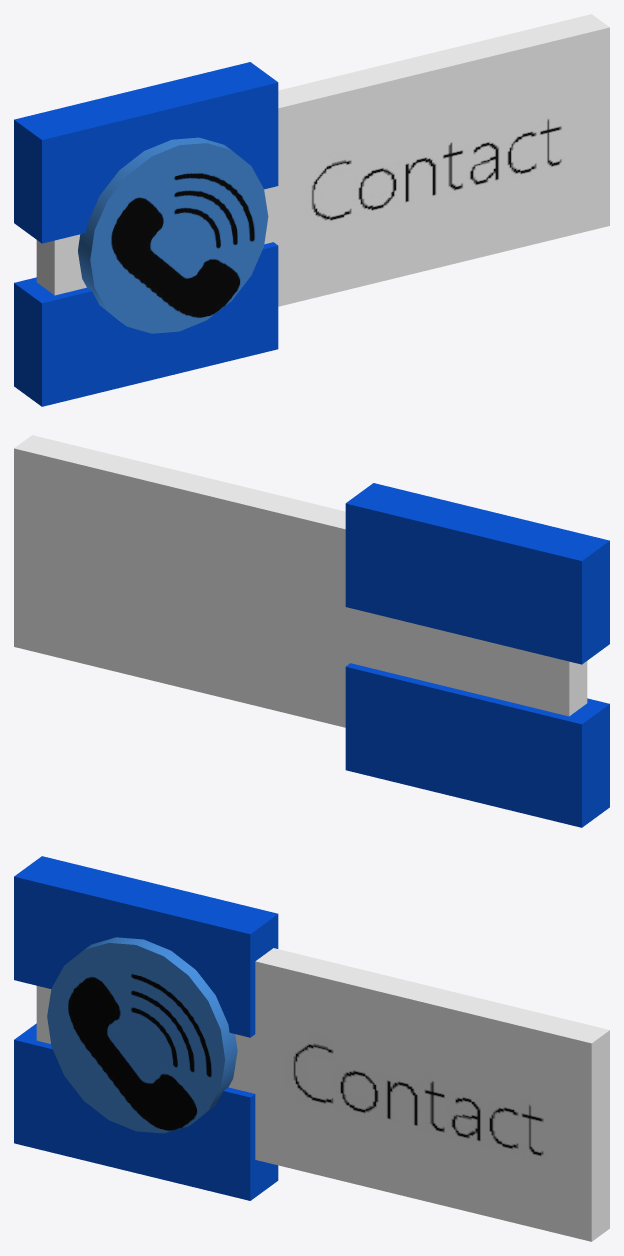
The model's file is contact.fbx.
3 views of the same model, one above another, from view 1: azimuth 30°, elevation 25°; view 2: azimuth 150°, elevation 25°; view 3: azimuth 330°, elevation 25° (orthographic).
Visible parts, largest first — view 1: pCube1, pCylinder1, pCube2, pCube3; view 2: pCube1, pCube2, pCube3; view 3: pCube1, pCylinder1, pCube2, pCube3.
Part boxes in pixels (x1,y1,x2,y2): pCube1: (36, 14, 609, 306); pCylinder1: (78, 137, 268, 333); pCube2: (14, 62, 278, 243); pCube3: (14, 242, 278, 406); pCube1: (14, 435, 587, 727); pCube2: (345, 483, 609, 664); pCube3: (345, 663, 609, 827); pCube1: (36, 948, 609, 1241); pCylinder1: (47, 937, 237, 1133); pCube2: (14, 856, 278, 1037); pCube3: (14, 1023, 278, 1200).
Bounding box in the file's own units: 6.21 × 0.6684 × 2.76.
Materials: 3 (2 with a texture image).
